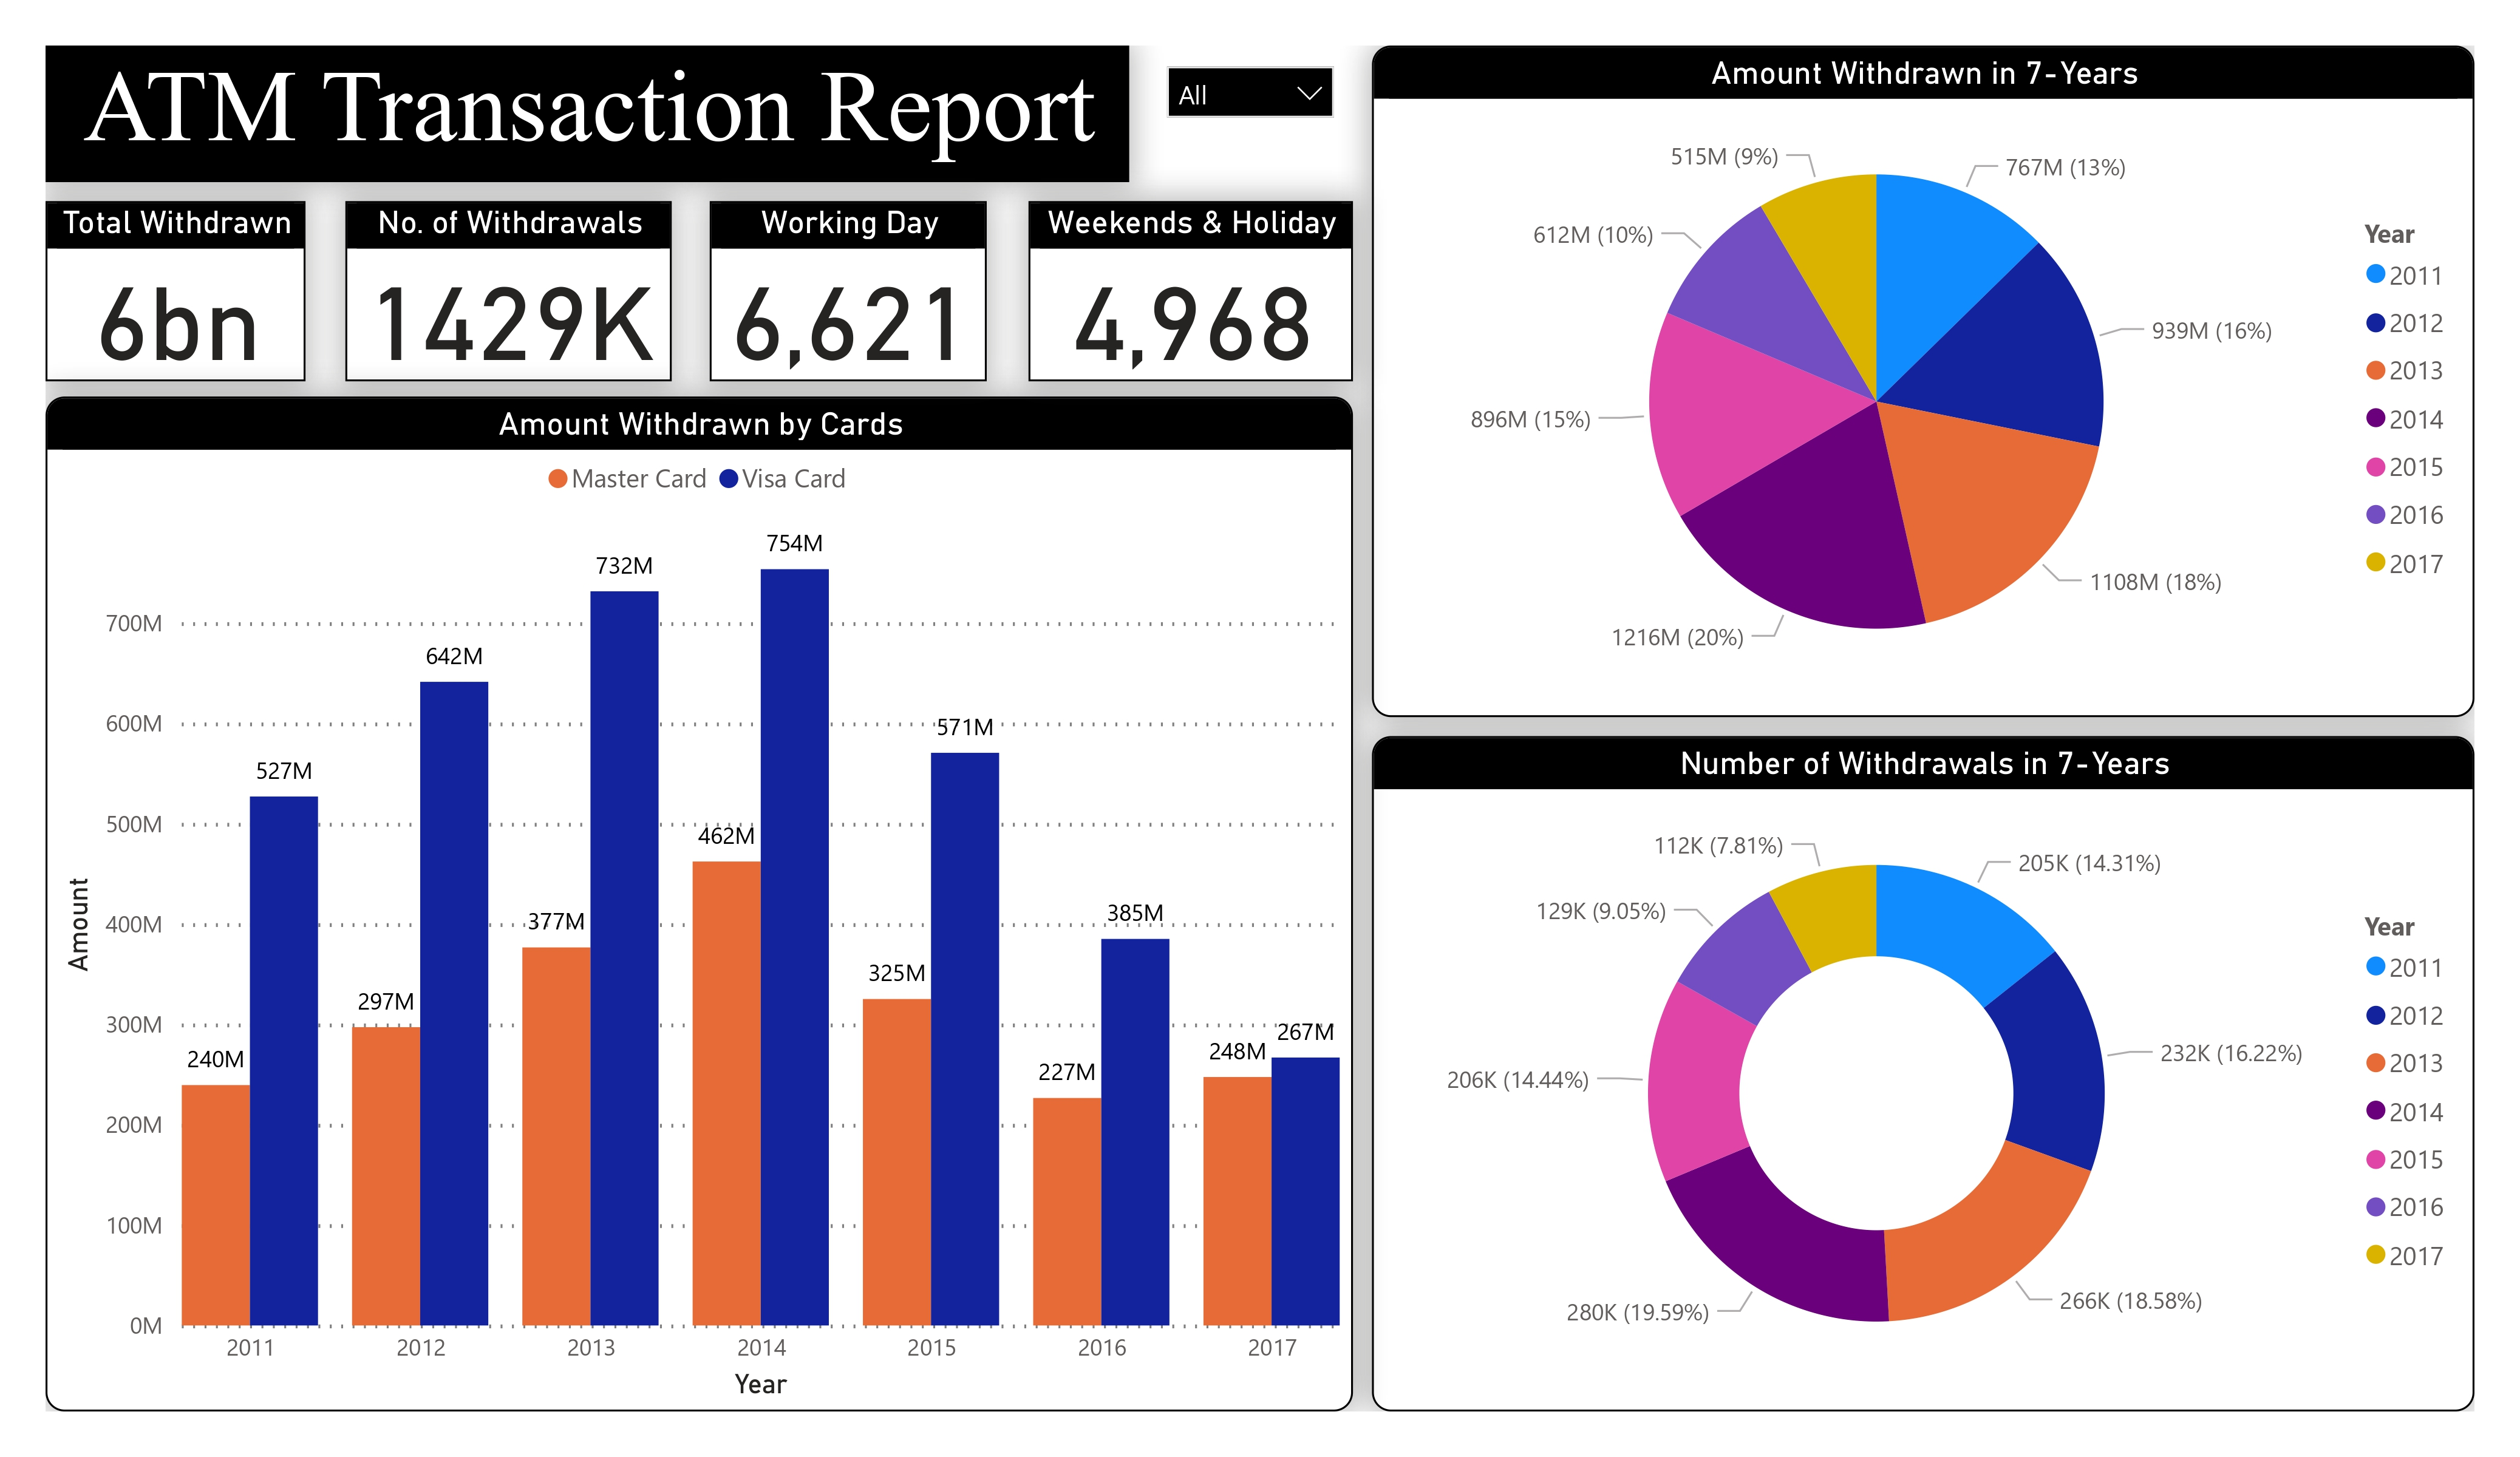

The dashboard page shown, as its layout file describes it:
{"tool":"powerbi","page":{"name":"Withdrawal Analysis","canvas":[1280,720],"ordinal":0},"visuals":[{"type":"donutChart","title":"Number of Withdrawals in 7-Years","fields":{"Y":["Sum(Transaction Dataset.No of Withdrawals)"],"Category":["Transaction Dataset.Transaction Date.Variation.Date Hierarchy.Year"]},"box":[699.2,364.3,580.6,355.7],"z":0},{"type":"pieChart","title":"Amount Withdrawn in 7-Years","fields":{"Y":["Sum(Transaction Dataset.Amount Withdrawn)"],"Category":["Transaction Dataset.Transaction Date.Variation.Date Hierarchy.Year"]},"box":[699.2,0,580.6,354.5],"z":1000},{"type":"card","title":"Total Withdrawn","fields":{"Values":["Sum(Transaction Dataset.Amount Withdrawn-Visa Card)"]},"box":[0,82.3,200.3,94.7],"z":2000},{"type":"card","title":"No. of Withdrawals","fields":{"Values":["Sum(Transaction Dataset.No of Withdrawals)"]},"box":[157.7,81.9,172.4,95.3],"z":3000},{"type":"clusteredColumnChart","title":"Amount Withdrawn by Cards","fields":{"Category":["Transaction Dataset.Transaction Date.Variation.Date Hierarchy.Year"],"Y":["Sum(Transaction Dataset.Amount Withdrawn-Master Card)","Sum(Transaction Dataset.Amount Withdrawn-Visa Card)"]},"box":[0,184.6,689.4,535.4],"z":4000},{"type":"slicer","fields":{"Values":["Transaction Dataset.Transaction Date.Variation.Date Hierarchy.Year"]},"box":[580.6,1.2,108.8,72.1],"z":5000},{"type":"textbox","box":[0,0,570.9,72.1],"z":6000},{"type":"card","title":"Working Day","fields":{"Values":["CountNonNull(Transaction Dataset.Working Day)"]},"box":[349.6,81.9,146.7,95.3],"z":7000},{"type":"card","title":"Weekends & Holiday","fields":{"Values":["CountNonNull(Transaction Dataset.Working Day)"]},"box":[518.3,81.9,171.1,95.3],"z":8000}]}

Visuals, with their boxes on the page's 1280x720 design canvas (x1, y1, x2, y2). These are canvas units, not pixel positions in the 2520x1457 screenshot, which may show the page scaled, cropped or inside an application window:
"Number of Withdrawals in 7-Years" donutChart: BBox(699, 364, 1280, 720)
"Amount Withdrawn in 7-Years" pieChart: BBox(699, 0, 1280, 354)
"Total Withdrawn" card: BBox(0, 82, 200, 177)
"No. of Withdrawals" card: BBox(158, 82, 330, 177)
"Amount Withdrawn by Cards" clusteredColumnChart: BBox(0, 185, 689, 720)
slicer - Transaction Dataset.Transaction Date.Variation.Date Hierarchy.Year: BBox(581, 1, 689, 73)
textbox: BBox(0, 0, 571, 72)
"Working Day" card: BBox(350, 82, 496, 177)
"Weekends & Holiday" card: BBox(518, 82, 689, 177)
